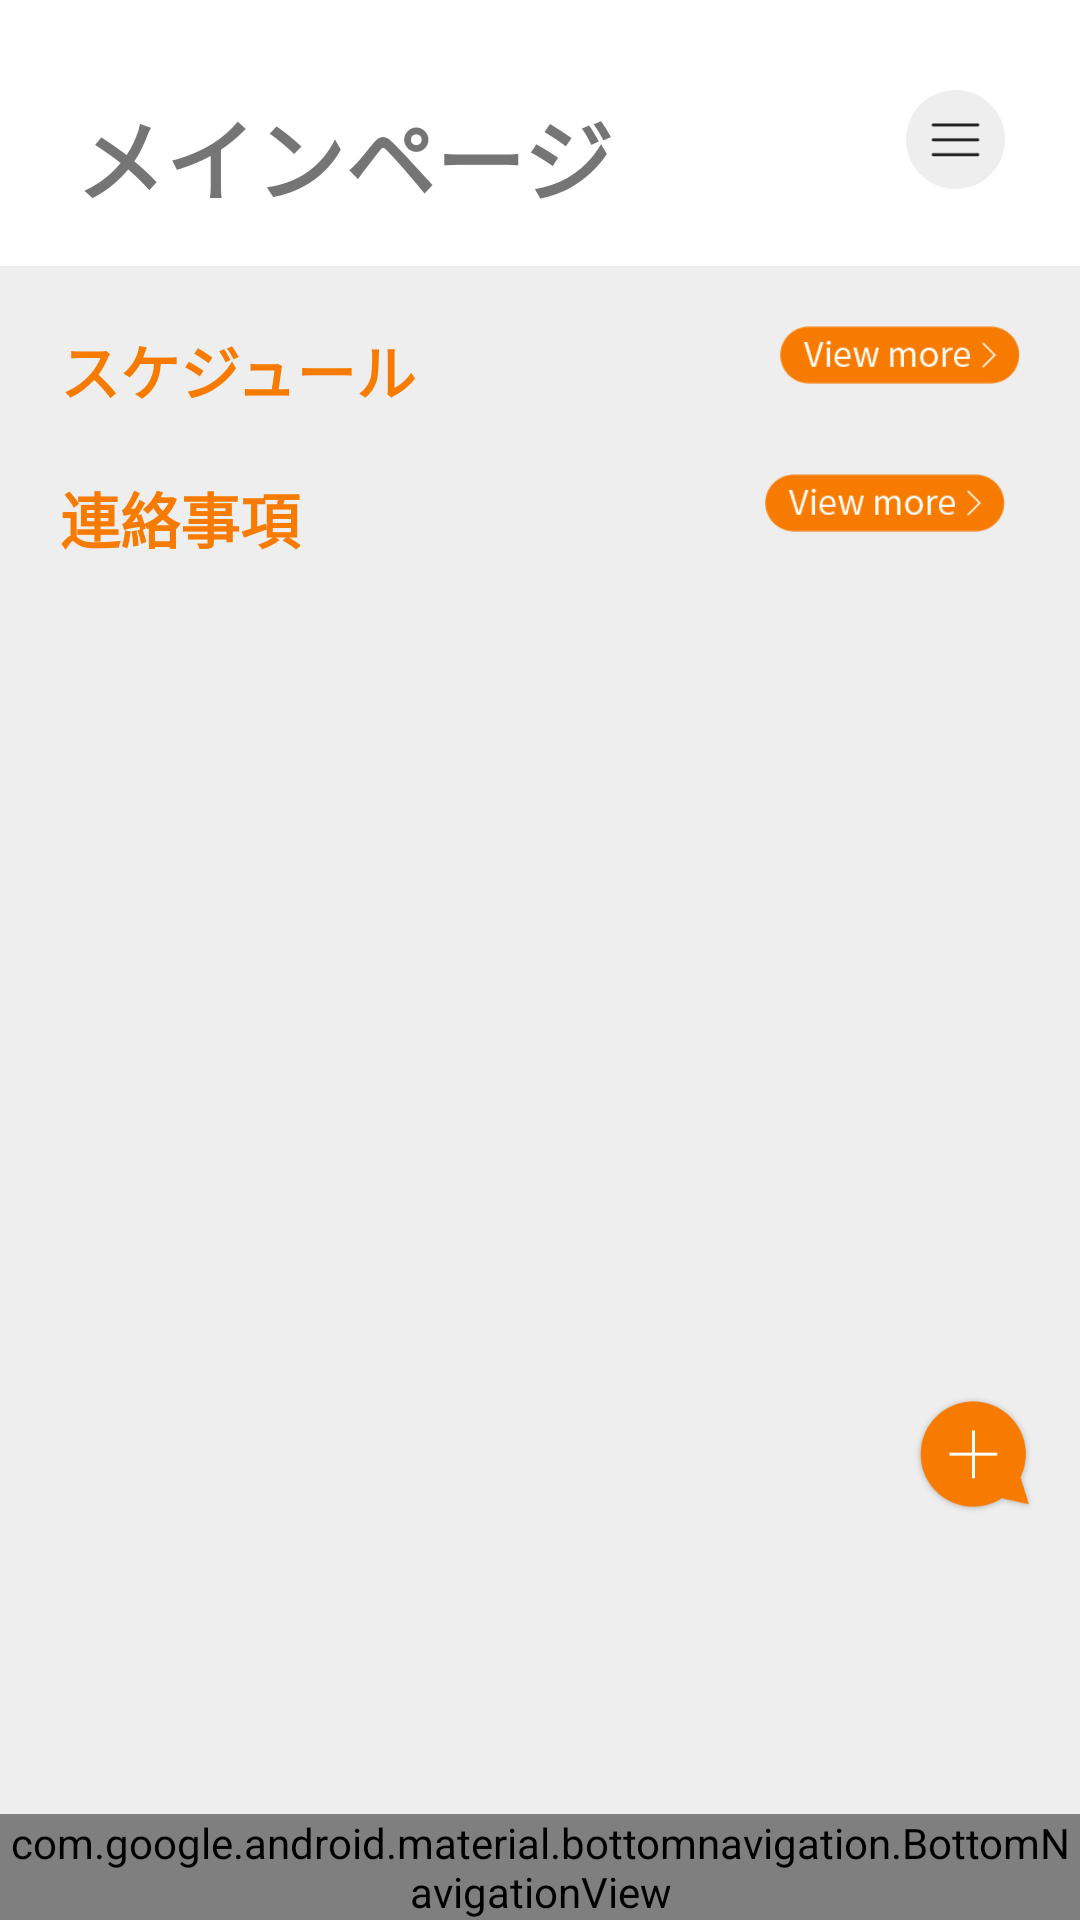

Named icons in this screenshot (1080px×1920px) and their bounding boxes, [left=x1, top=y1, right=x2, bottom=y2]:
popup: [left=920, top=1401, right=1029, bottom=1508]
